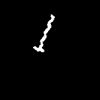half_double_crochet: (33, 15, 54, 51)
